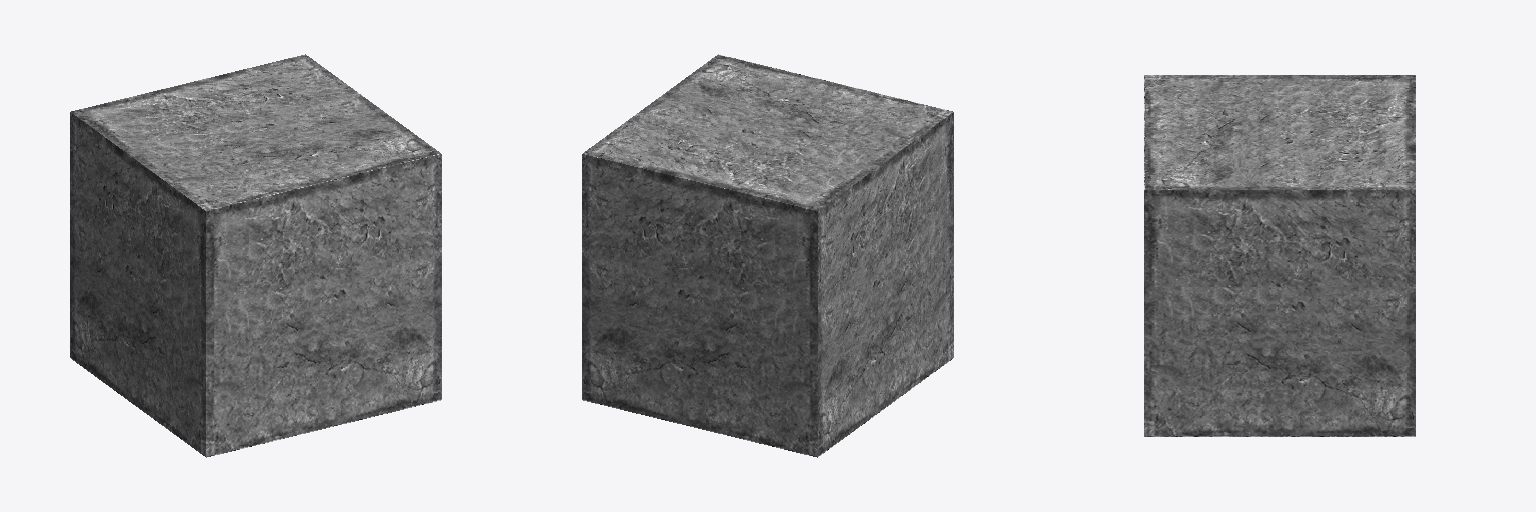
3 renders of one model, left to right at view 1: azimuth 30°, elevation 25°; view 2: azimuth 150°, elevation 25°; view 3: azimuth 270°, elevation 25°, orthographic.
Parts seen in each view (by area): view 1: Cube.001; view 2: Cube.001; view 3: Cube.001.
Part boxes in pixels (left/top/right/bottom): Cube.001: left=70, top=54, right=441, bottom=457; Cube.001: left=582, top=54, right=953, bottom=457; Cube.001: left=1144, top=75, right=1415, bottom=436.
Size of the model in its own units: 2 by 2 by 2.
Materials: 1 (1 with a texture image).